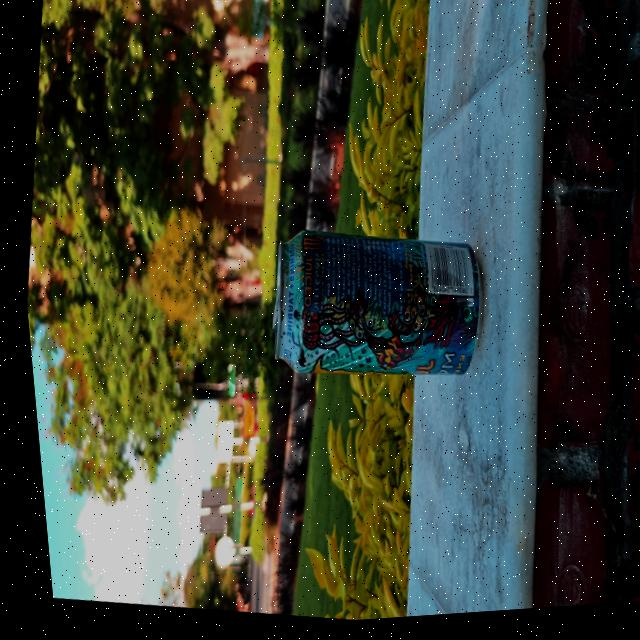Monster Aussie Lemonade: (253, 215, 488, 404)
